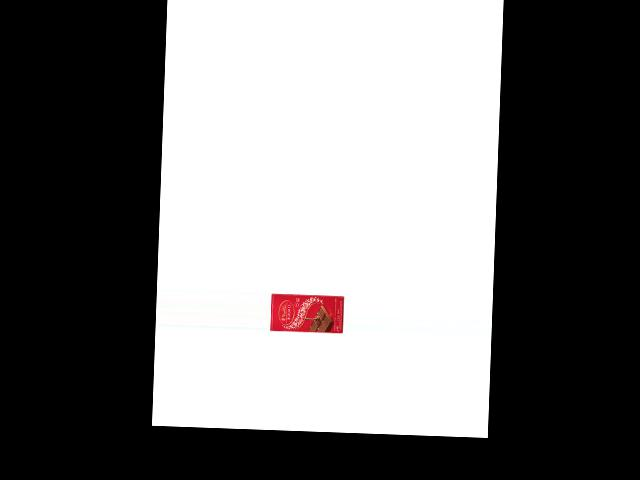chocolate: (270, 292, 343, 337)
